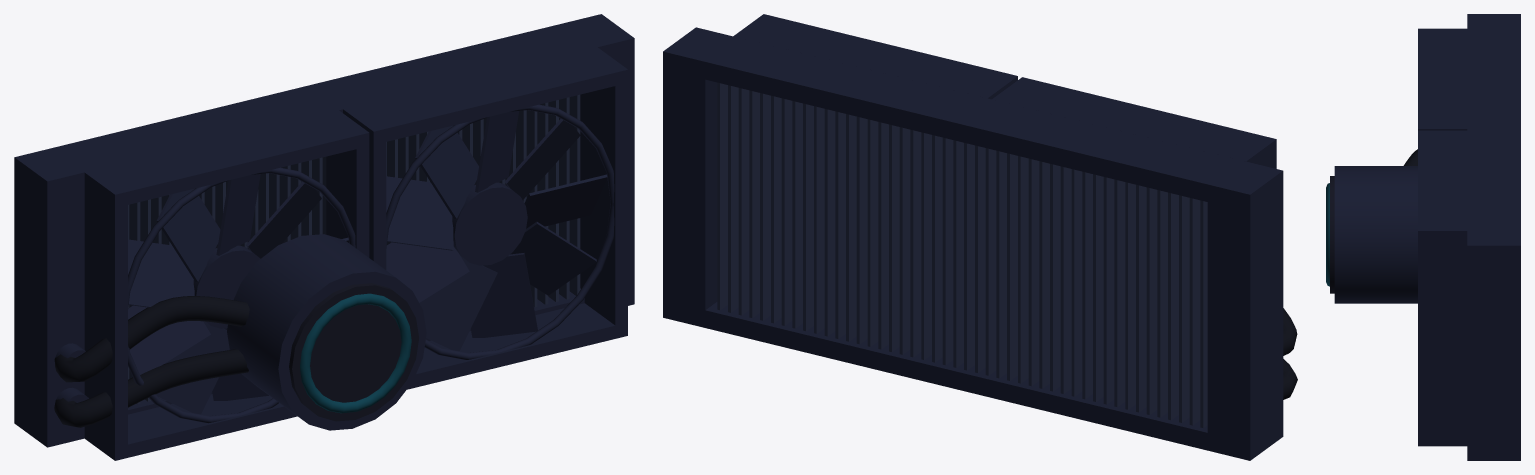
The model's file is cooler-aio-240.glb.
3 renders of one model, left to right at view 1: azimuth 30°, elevation 25°; view 2: azimuth 150°, elevation 25°; view 3: azimuth 270°, elevation 25°, orthographic. The views are drawn at different scales.
Parts seen in each view (by area): view 1: radiator_frame, blades_2, fan_frame, fan_frame_1, blades_1, pump_body, radiator_fins, pump_face, tube_2, tube_1, fan_inner_ring_1, pump_glow_ring (+1 smaller); view 2: radiator_fins, radiator_frame, fan_frame, fan_frame_1; view 3: radiator_frame, fan_frame_1, pump_body, fan_frame, pump_face, pump_glow_ring.
Part boxes in pixels (box(x1,y1,x2,y2)): radiator_frame: box(14, 14, 634, 447); blades_2: box(386, 111, 607, 351); fan_frame: box(84, 110, 369, 460); fan_frame_1: box(343, 47, 627, 389); blades_1: box(128, 174, 348, 414); pump_body: box(227, 234, 426, 430); radiator_fins: box(128, 94, 580, 404); pump_face: box(289, 283, 418, 421); tube_2: box(54, 296, 249, 382); tube_1: box(54, 349, 248, 427); fan_inner_ring_1: box(386, 104, 614, 359); pump_glow_ring: box(300, 293, 411, 413); radiator_fins: box(717, 82, 1207, 427); radiator_frame: box(663, 27, 1283, 460); fan_frame: box(992, 77, 1276, 168); fan_frame_1: box(733, 14, 1017, 99); radiator_frame: box(1467, 14, 1520, 460); fan_frame_1: box(1418, 130, 1467, 446); pump_body: box(1334, 166, 1417, 303); fan_frame: box(1418, 28, 1467, 130); pump_face: box(1330, 176, 1334, 293); pump_glow_ring: box(1326, 183, 1329, 286).
Size of the model in its own units: 277 by 120 by 98.4.
